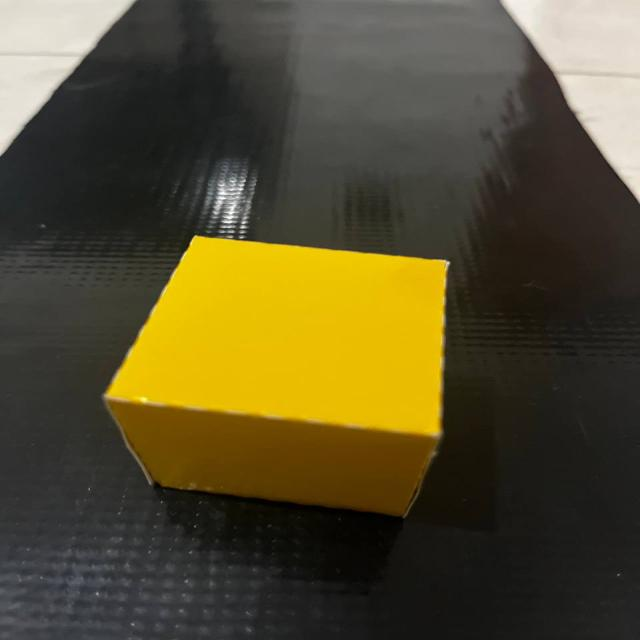Amarillo: (97, 220, 470, 552)
